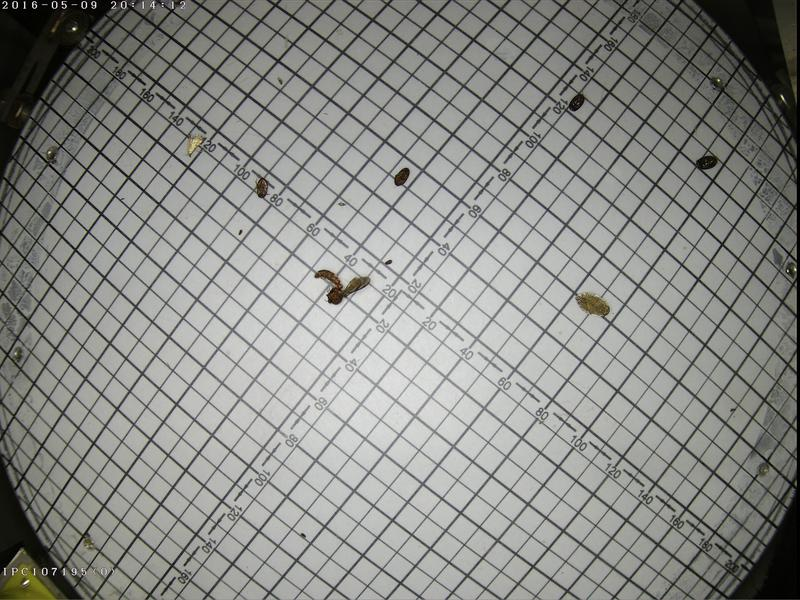Rice Leaf Roller: (184, 129, 203, 157)
